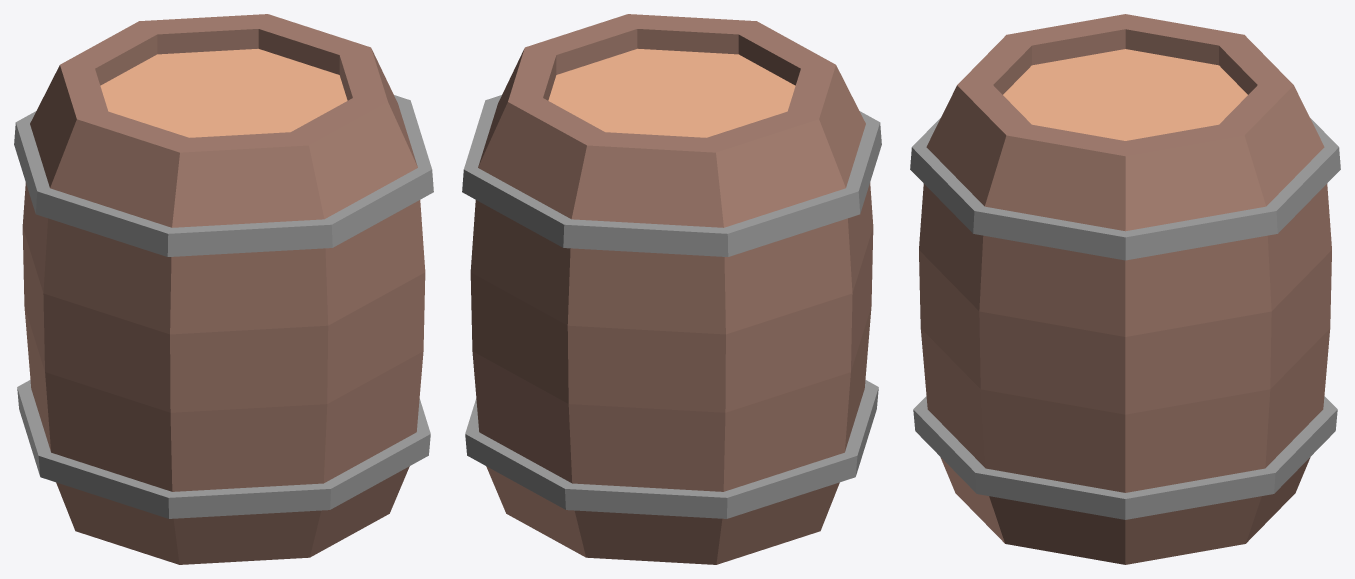
The model's file is Barrel.fbx.
The picture shows the model from 3 angles, left to right: view 1: azimuth 30°, elevation 25°; view 2: azimuth 150°, elevation 25°; view 3: azimuth 270°, elevation 25°; orthographic projection.
Visible parts, largest first — view 1: Cylinder.006; view 2: Cylinder.006; view 3: Cylinder.006.
Part boxes in pixels (box(x1,y1,x2,y2)): Cylinder.006: box(14, 14, 433, 564); Cylinder.006: box(462, 14, 881, 564); Cylinder.006: box(910, 14, 1340, 564).
Bounding box in the file's own units: 95.14 × 99.4 × 95.14.
